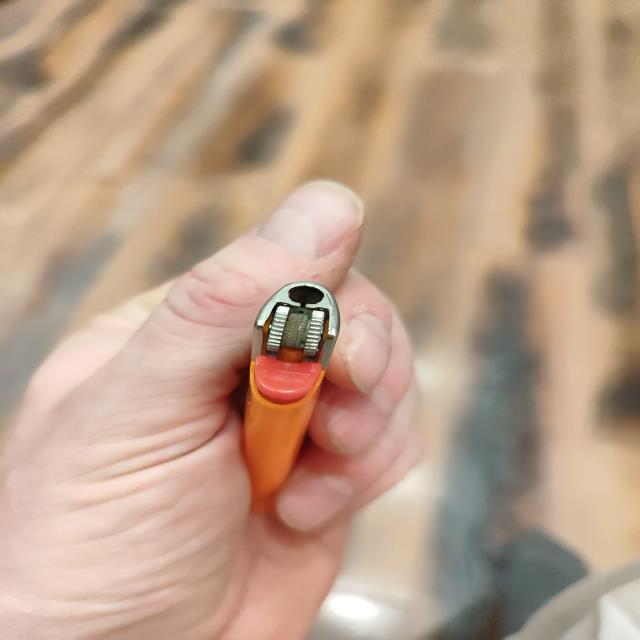lighter: (243, 282, 338, 510)
